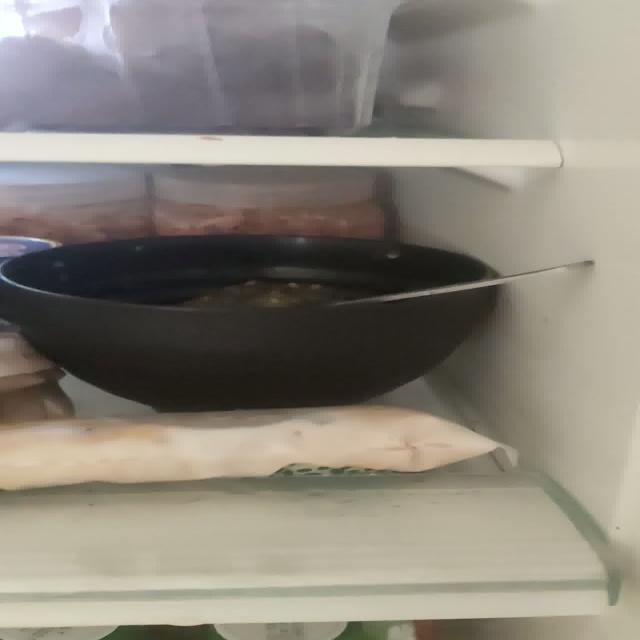tempeh: (0, 404, 507, 491)
